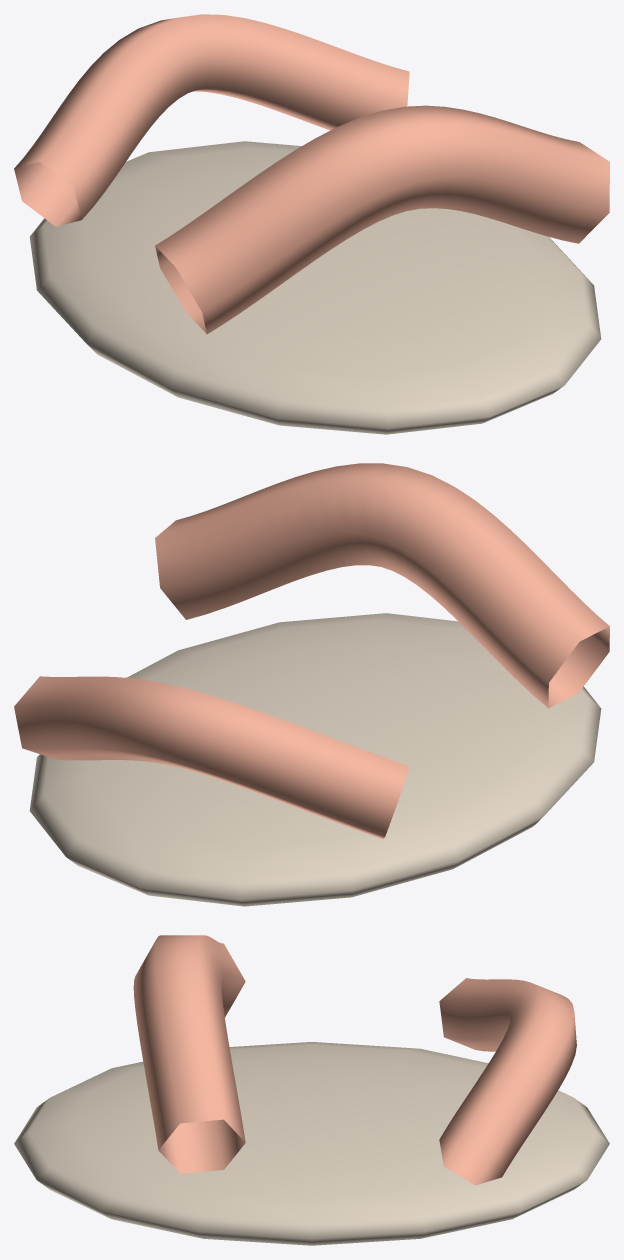
The model's file is sandals_summer.glb.
3 views of the same model, one above another, from view 1: azimuth 30°, elevation 25°; view 2: azimuth 150°, elevation 25°; view 3: azimuth 270°, elevation 25° (orthographic). The views are drawn at different scales.
Visible parts, largest first — view 1: Sandalias verano; view 2: Sandalias verano; view 3: Sandalias verano.
Boxes of the visible parts, x1=… form: Sandalias verano: x1=14, y1=14, x2=609, y2=434; Sandalias verano: x1=14, y1=463, x2=609, y2=906; Sandalias verano: x1=14, y1=935, x2=609, y2=1245.
Bounding box in the file's own units: 0.184 × 0.1038 × 0.244.
